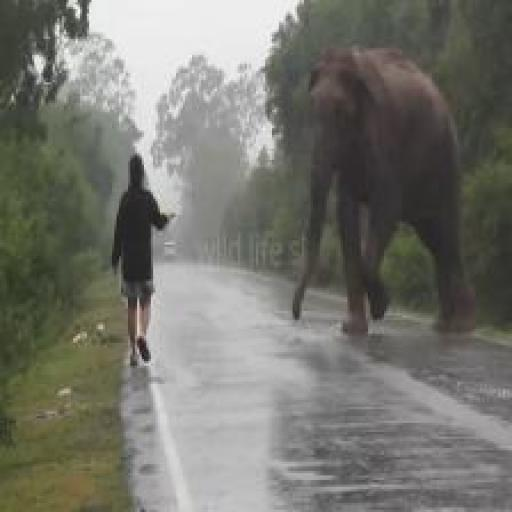Elephant: (254, 36, 505, 380)
